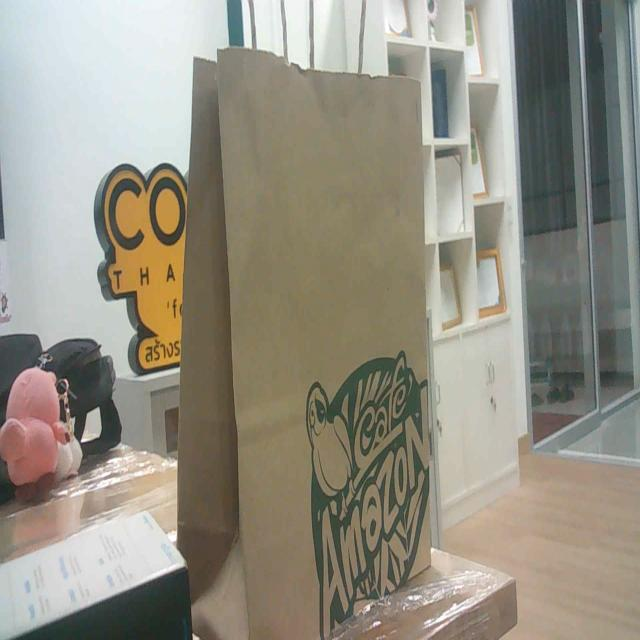bag: (165, 44, 472, 617)
